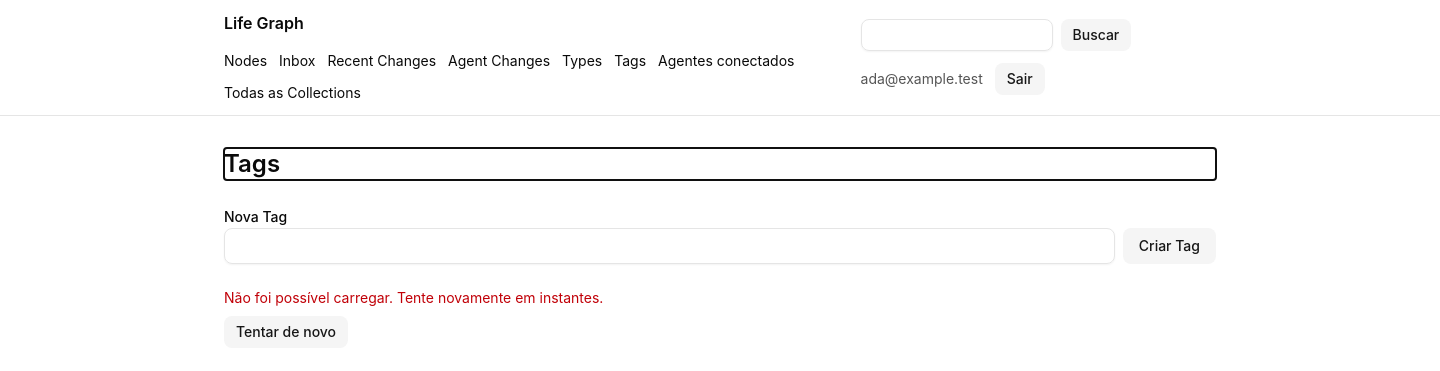
Test: tags page › offers a retry when the list fails
Click the button "Tentar de novo": (286,332) [224,316,348,348]
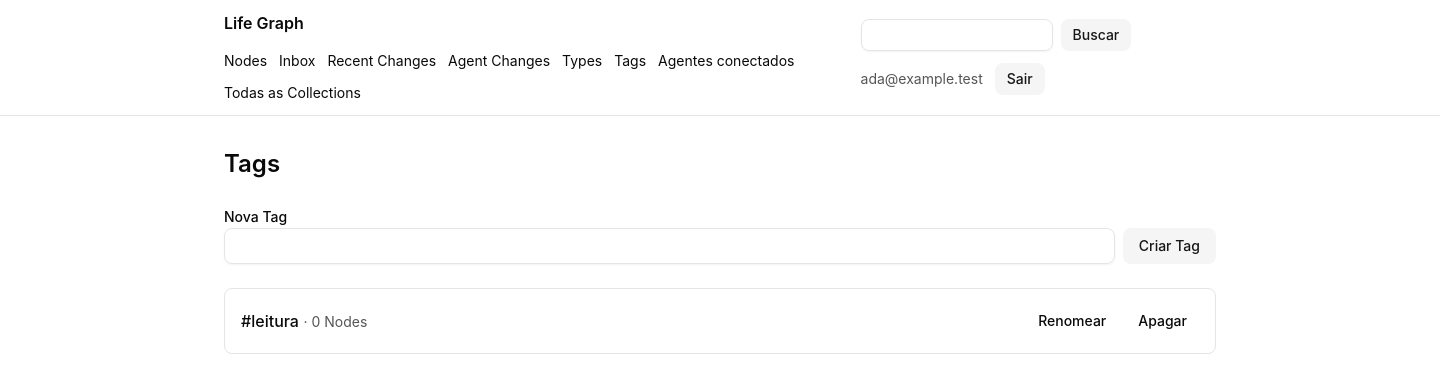
Now the list named "Tags" is shown, box [224,288,1216,354]
